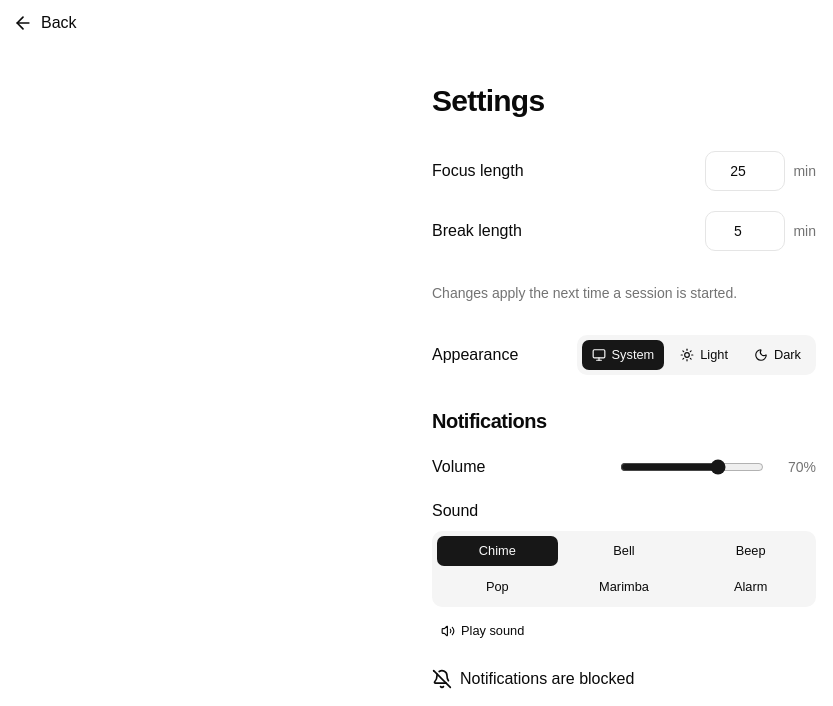
Test: focus and break length › goes back to the last saved length when left with an invalid one
Step 1. Clear the number field labelled "Focus length" → (745, 171), box [705, 151, 785, 191]
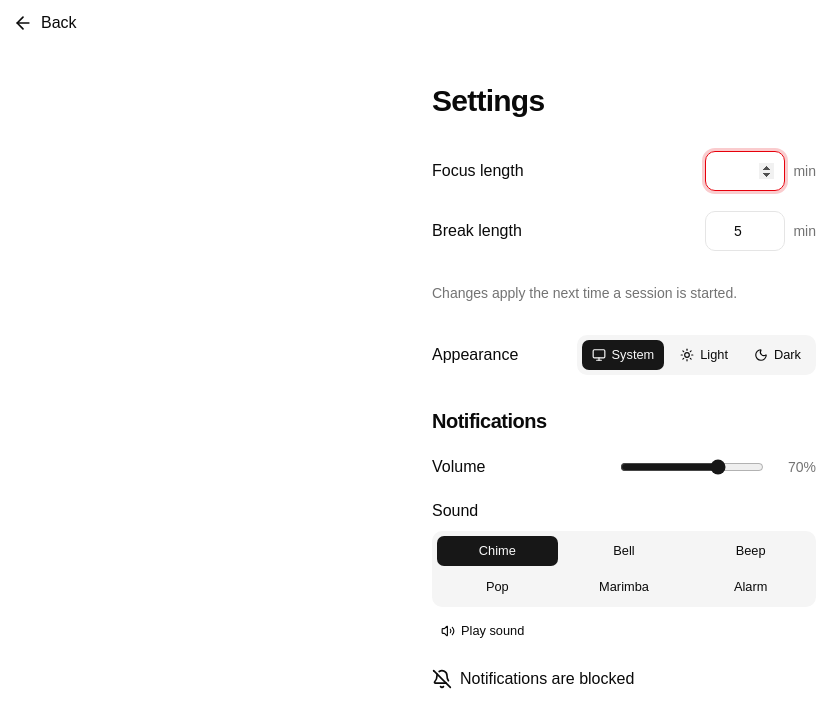
Step 2. Type keys "30"
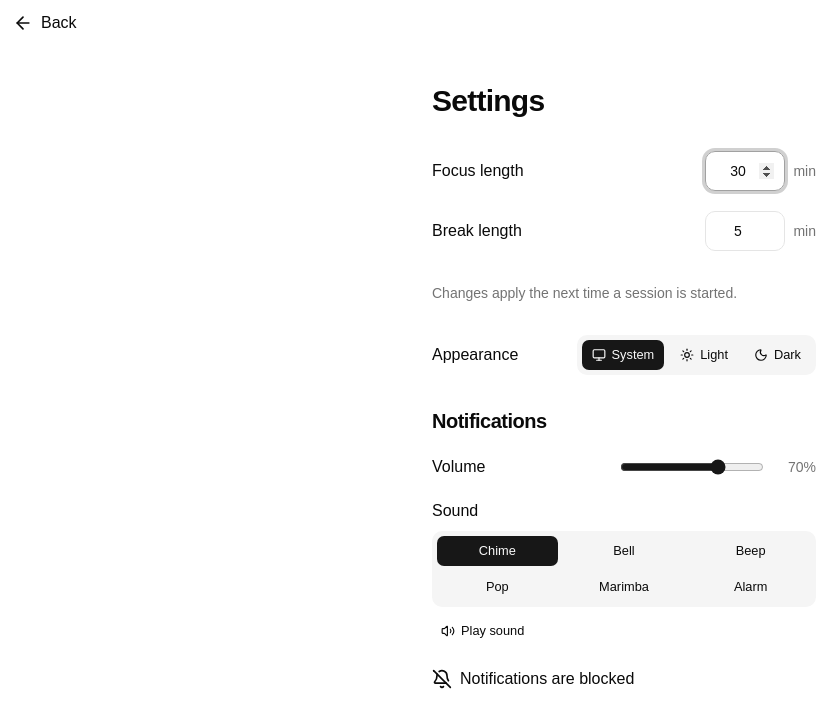
Step 3. Clear the number field labelled "Focus length" → (745, 171), box [705, 151, 785, 191]
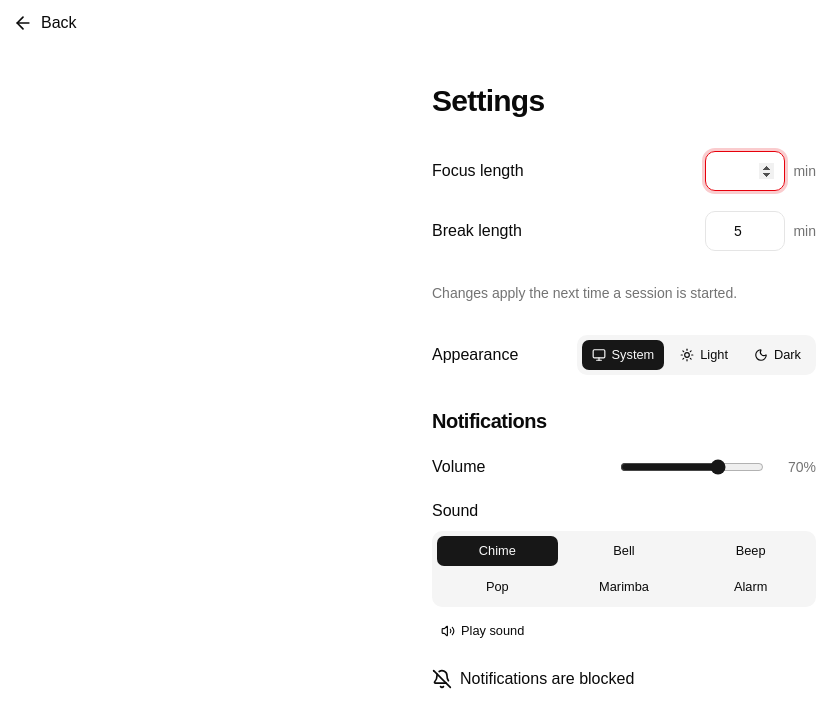
Step 4. Type keys "0"
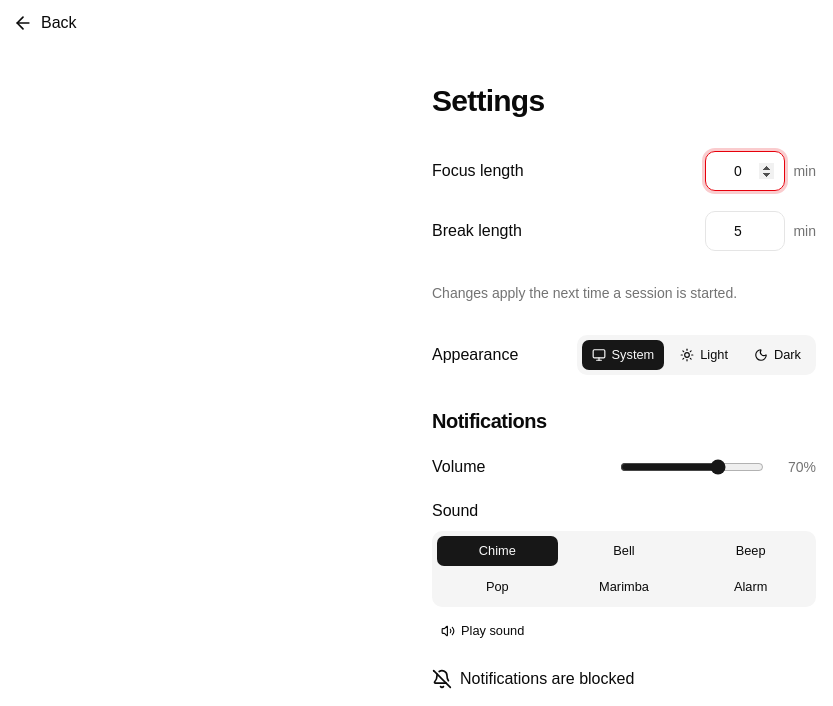
Step 5. Press Tab
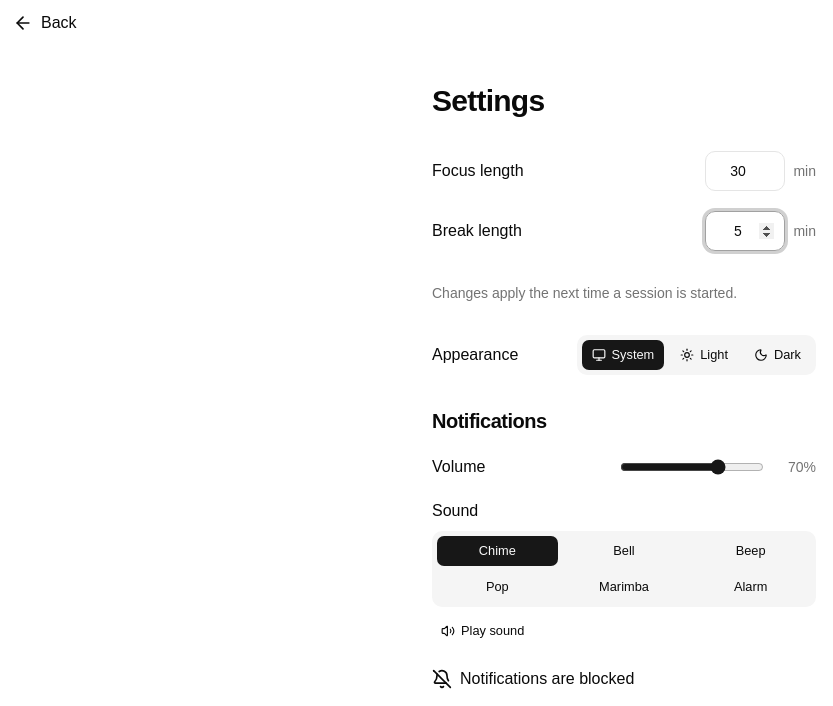
Now the number field labelled "Focus length" holds "30", box [705, 151, 785, 191]
